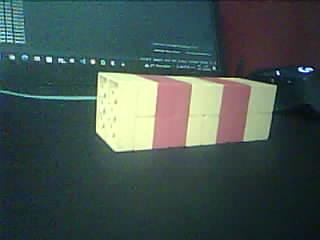lego: (95, 69, 277, 154)
